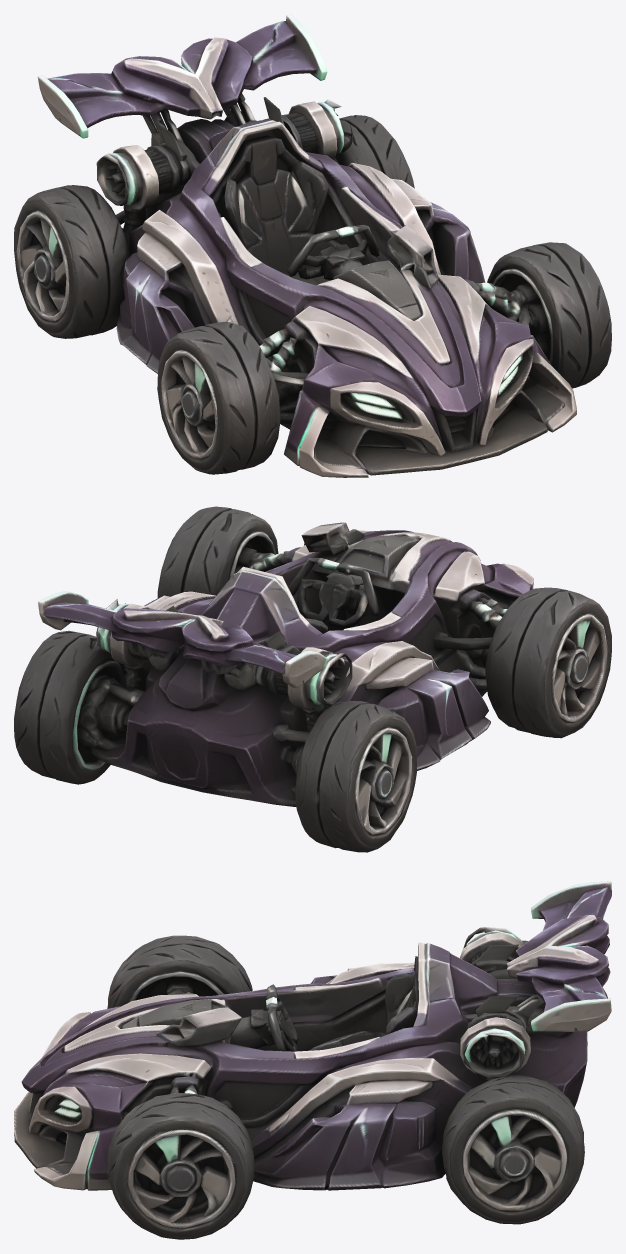
The model's file is 05-violet-nautilus-shaded.glb.
3 renders of one model, top to bottom at view 1: azimuth 30°, elevation 25°; view 2: azimuth 150°, elevation 25°; view 3: azimuth 270°, elevation 25°, orthographic. The views are drawn at different scales.
Parts seen in each view (by area): view 1: model; view 2: model; view 3: model.
Boxes of the visible parts, bbox=[...] form: model: bbox=[14, 14, 611, 477]; model: bbox=[14, 506, 611, 852]; model: bbox=[14, 881, 611, 1239].
Bounding box in the file's own units: 1.41 × 0.7509 × 1.9.
Materials: 1 (1 with a texture image).
